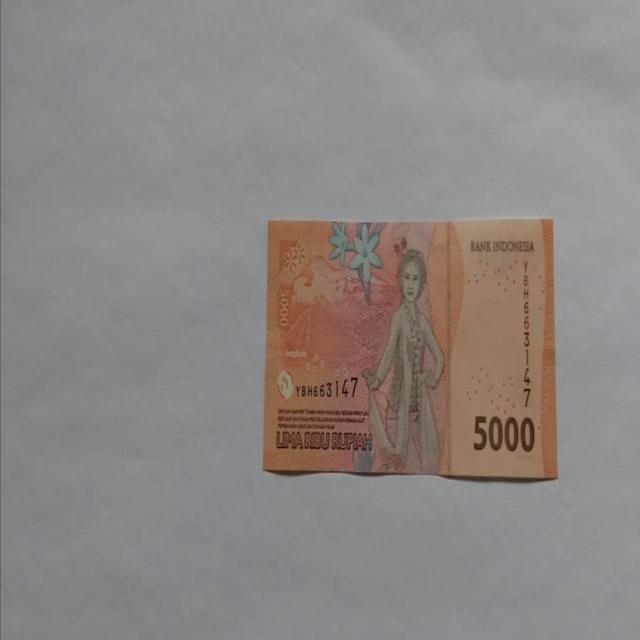lima ribu rupiah: (262, 216, 557, 480), (360, 247, 446, 474)
